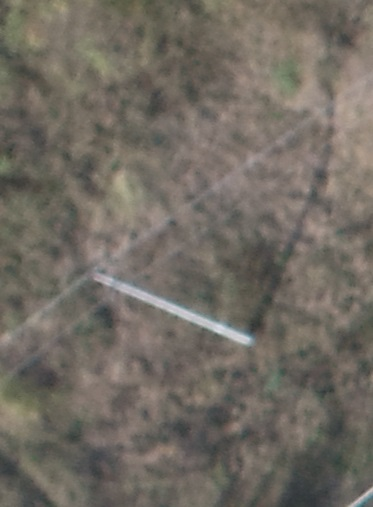opora: (80, 256, 288, 350)
